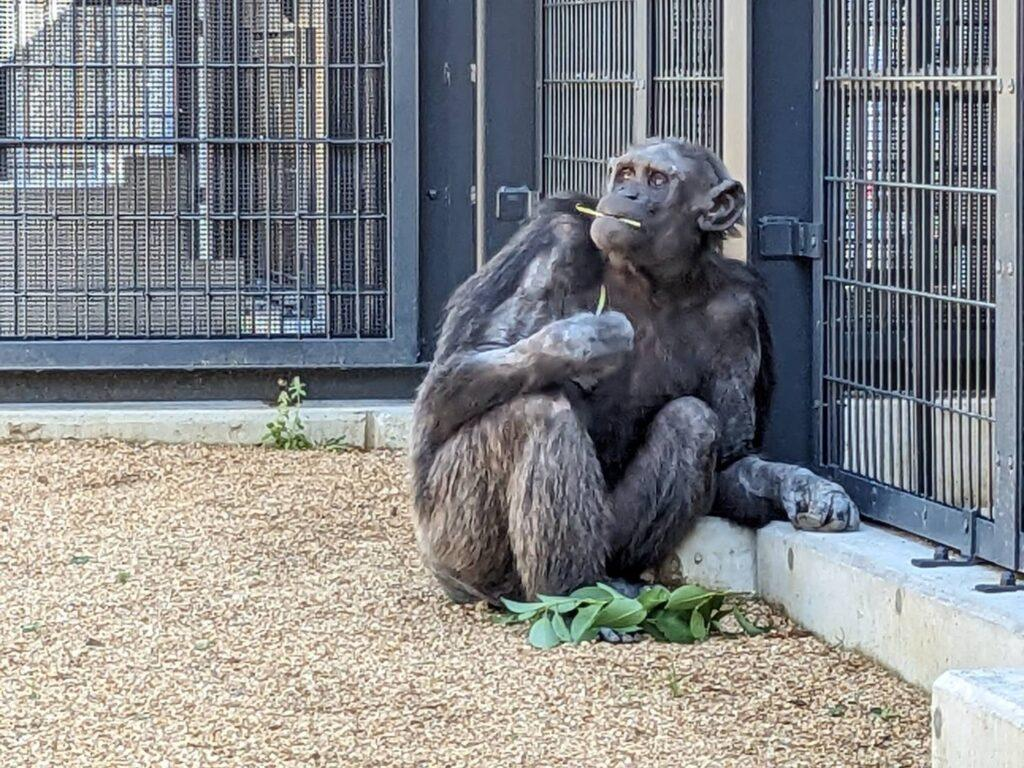chimpanzee: (413, 134, 853, 645)
